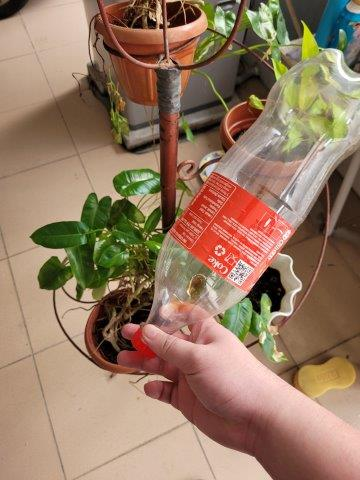botolplastik: (140, 47, 360, 361)
